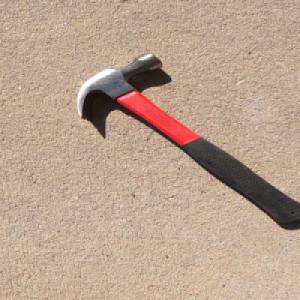Hammer: (74, 52, 300, 232)
